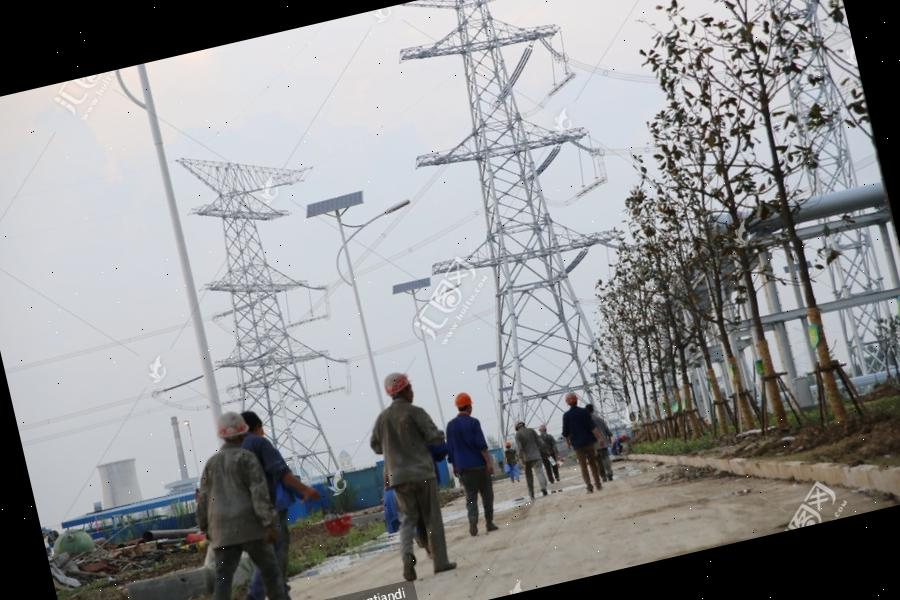helmet: (212, 406, 253, 439), (381, 368, 416, 396), (452, 388, 476, 409), (561, 389, 582, 406)
no_wear: (192, 442, 279, 551), (374, 401, 445, 491), (560, 402, 600, 449)
